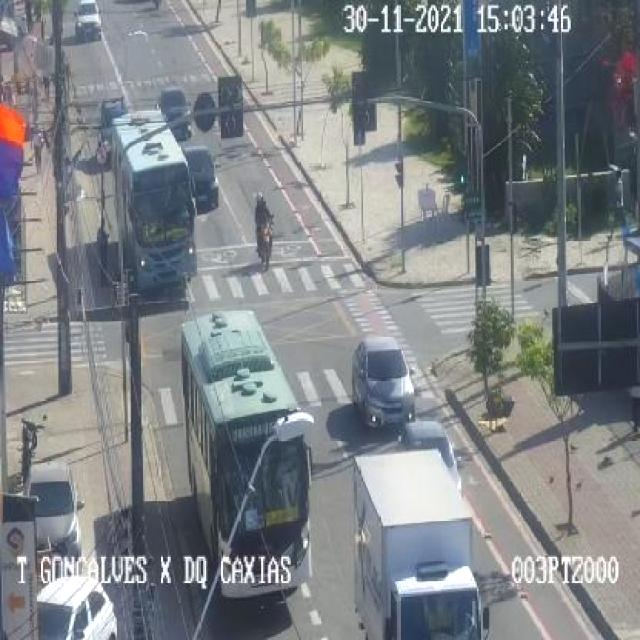Bus: (180, 309, 312, 600), (109, 107, 200, 296)
Car: (26, 458, 86, 564), (353, 337, 418, 431), (36, 573, 122, 640), (396, 420, 466, 495), (177, 144, 221, 213), (156, 86, 194, 138), (71, 0, 107, 44)
Cycle: (254, 217, 276, 269)
Truck: (351, 450, 491, 640)
